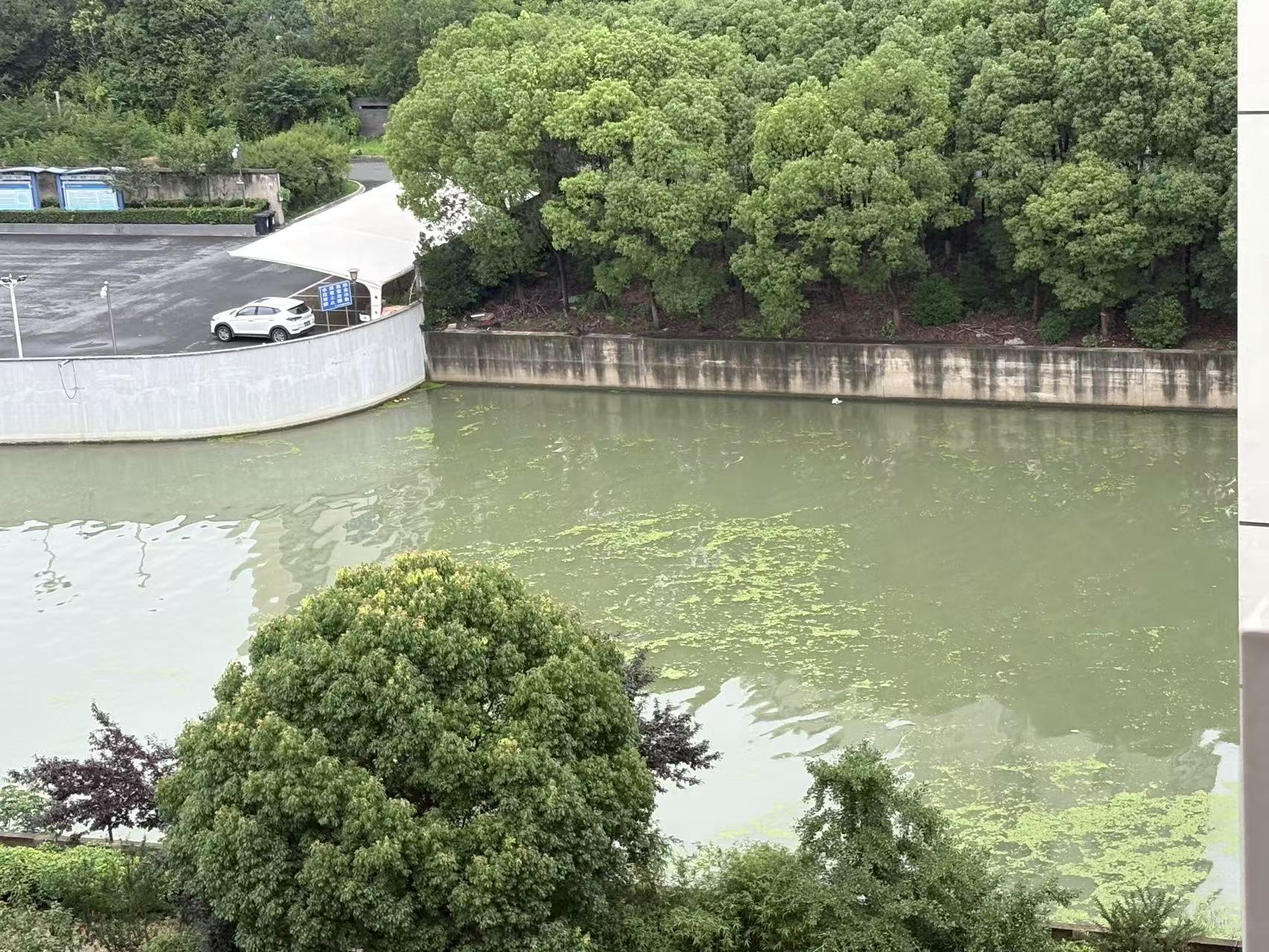Other: (707, 567, 849, 660), (566, 519, 832, 568), (965, 797, 1232, 840), (1100, 840, 1207, 888)
Plastic wastes: (831, 398, 842, 404), (393, 398, 409, 401)
